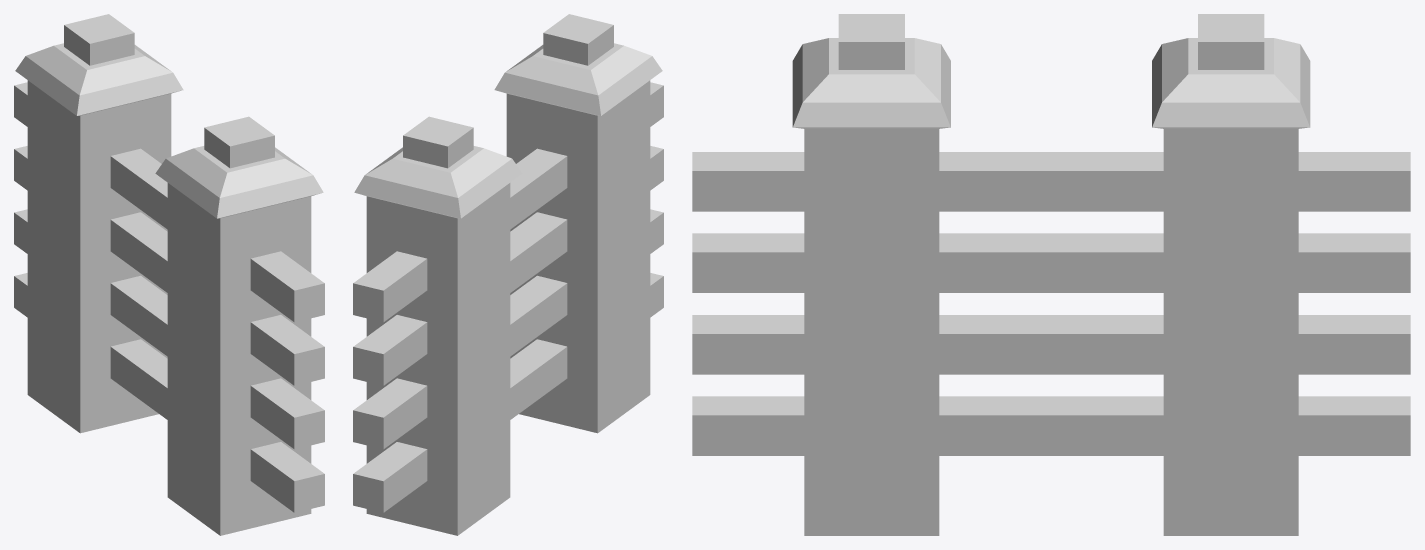
The model's file is Fence_02.fbx.
3 views of the same model, side by side, from view 1: azimuth 30°, elevation 25°; view 2: azimuth 150°, elevation 25°; view 3: azimuth 270°, elevation 25° (orthographic). The views are drawn at different scales.
Parts seen in each view (by area): view 1: Fence_02_Body; view 2: Fence_02_Body; view 3: Fence_02_Body.
Boxes of the visible parts, <box> form: Fence_02_Body: <box>14,14,324,535</box>; Fence_02_Body: <box>353,14,663,535</box>; Fence_02_Body: <box>692,14,1410,535</box>.
Bounding box in the file's own units: 8.8 × 29.45 × 40.
